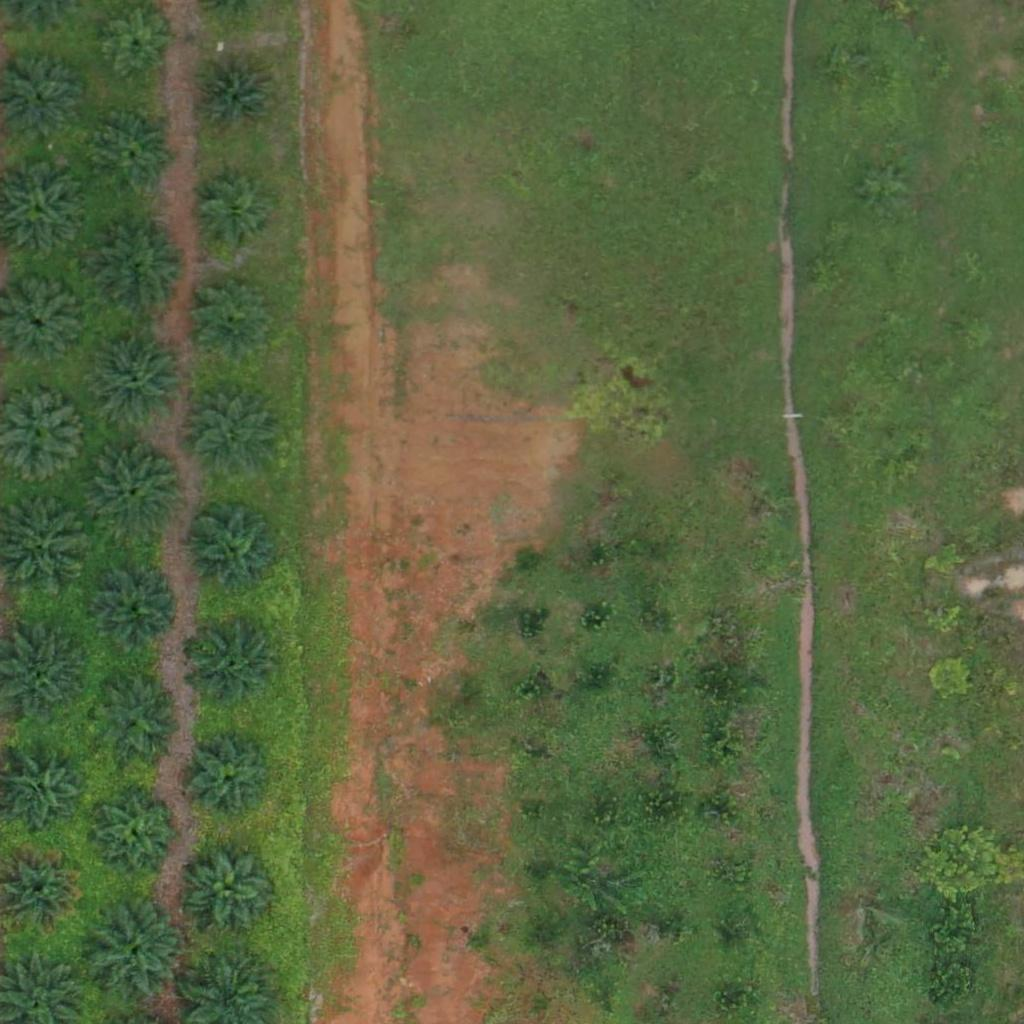Kelapa_Sawit: (91, 330, 191, 431), (84, 441, 184, 542), (183, 500, 283, 601), (87, 219, 187, 319), (83, 902, 183, 1002), (189, 174, 277, 262), (92, 111, 180, 199), (89, 565, 177, 653), (191, 621, 279, 709), (187, 735, 275, 823), (188, 845, 276, 933), (193, 55, 280, 143), (93, 677, 180, 765), (189, 275, 276, 363), (189, 390, 276, 478), (90, 788, 177, 876), (101, 9, 176, 84)
